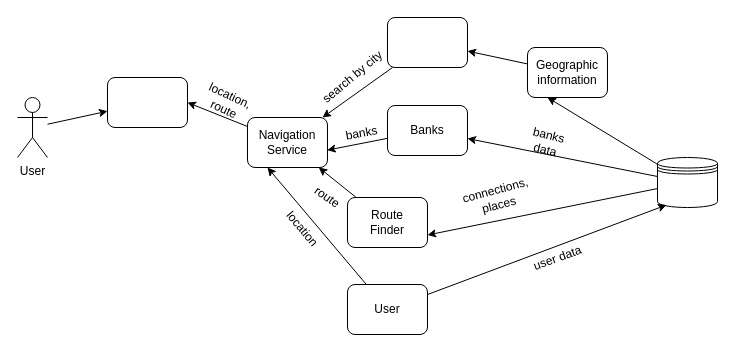
Image size: 735x352. Some labels were removed from this diagram. The box of each missing label's shape, as (x1, y1, x2, y2) in pixels:
App UI: (106, 76, 188, 128)
Database: (656, 156, 718, 208)
Search: (386, 16, 468, 68)
